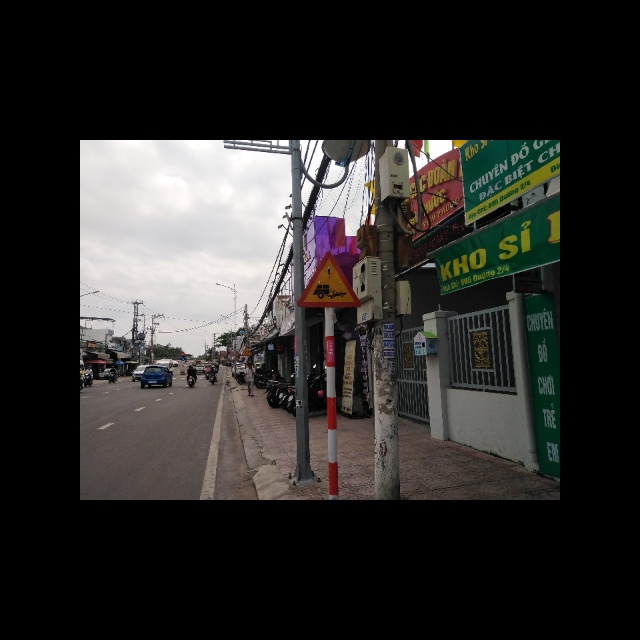Đoạn đường hay xảy ra tai nạn: (296, 248, 365, 309)
Đường đôi: (241, 345, 254, 357)
